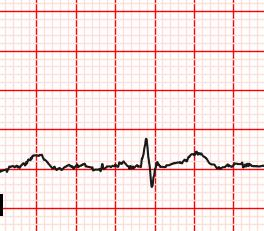Poor R Progression: (138, 136, 152, 170)
ST Depression: (135, 158, 161, 189)
